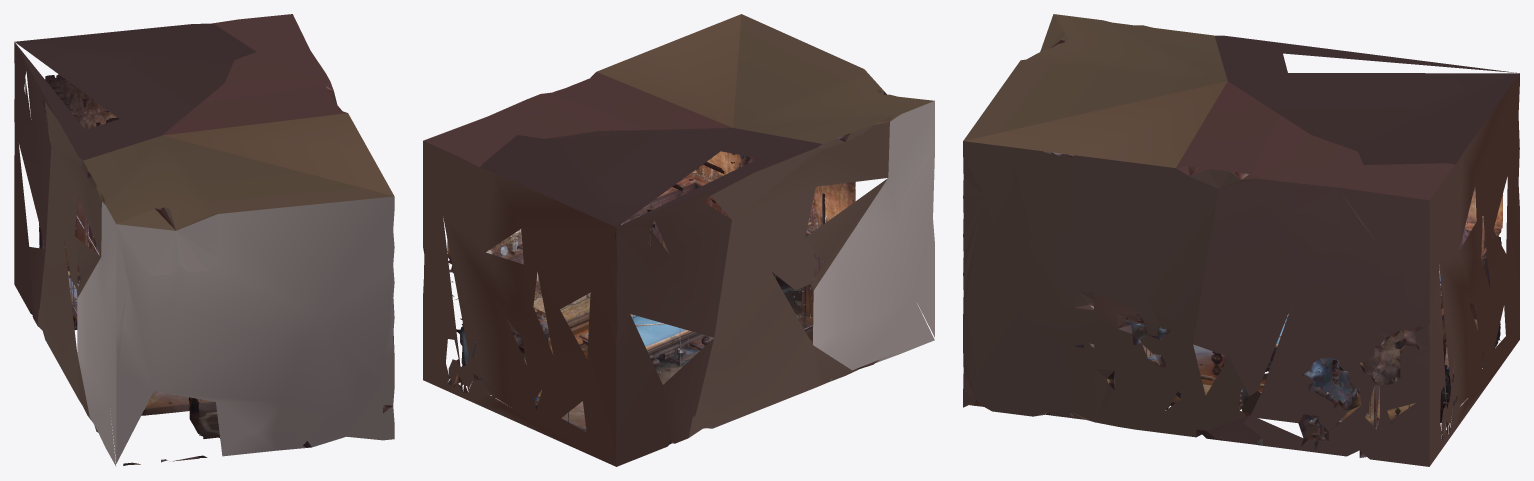
File: large-transformed.glb
The picture shows the model from 3 angles, left to right: view 1: azimuth 30°, elevation 25°; view 2: azimuth 150°, elevation 25°; view 3: azimuth 270°, elevation 25°; orthographic projection. The views are drawn at different scales.
Parts seen in each view (by area): view 1: Object_2; view 2: Object_2; view 3: Object_2.
Boxes of the visible parts, box(x1,y1,x2,y2) form: Object_2: box(14, 14, 394, 466); Object_2: box(423, 14, 934, 466); Object_2: box(963, 14, 1519, 466).
Bounding box in the file's own units: 22.46 × 14.99 × 28.36.
1 material, 1 textured.
